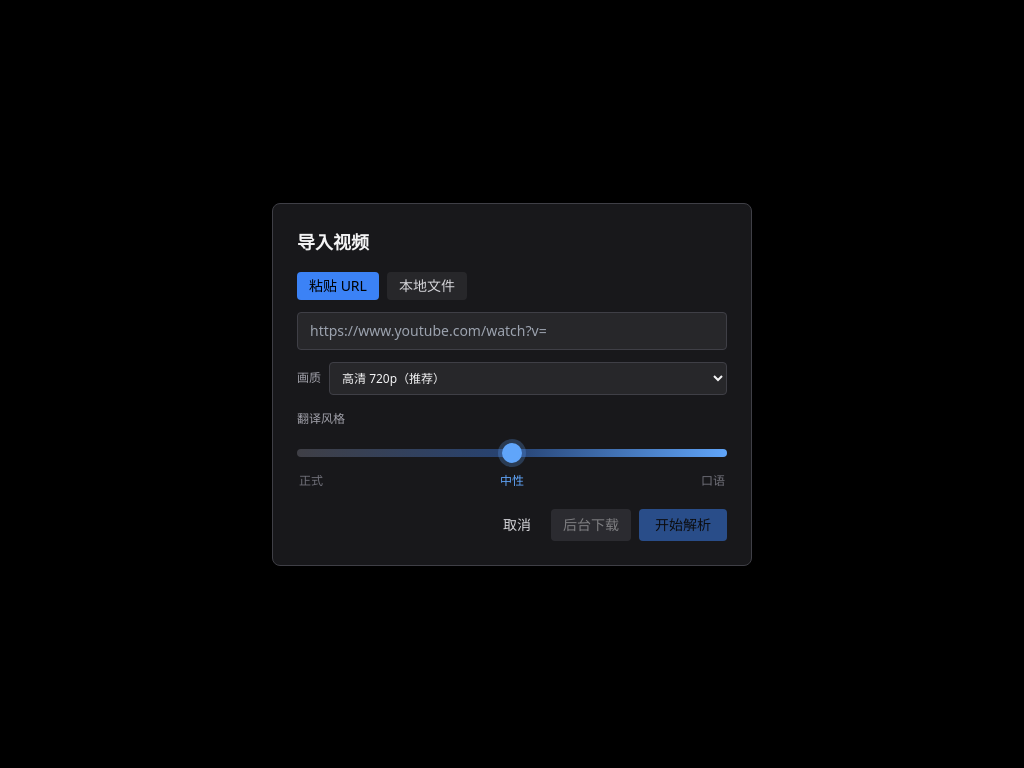
ImportModal — existing video confirmation › does not offer overwrite while the same video is running
In the field with placeholder "https://www.youtube.com/watch?v=": x=512, y=330 [297,312,727,350], type "https://www.youtube.com/watch?v=jNQXAC9IVRw"
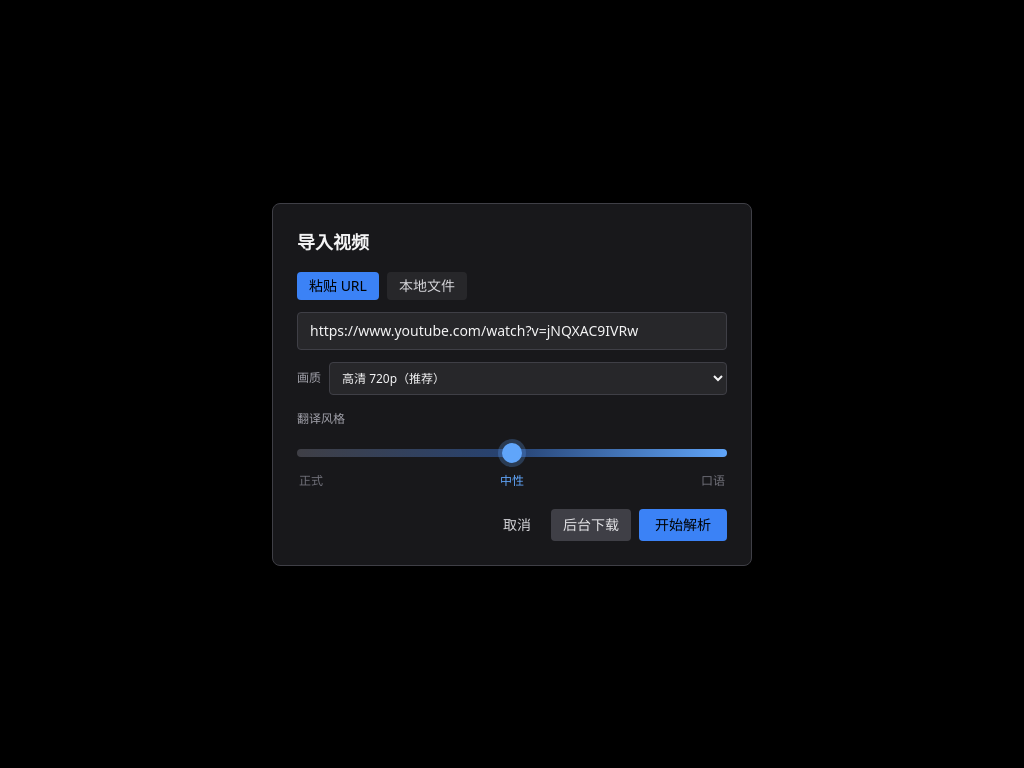
Click the button "开始解析": x=683, y=524 [639,508,727,540]
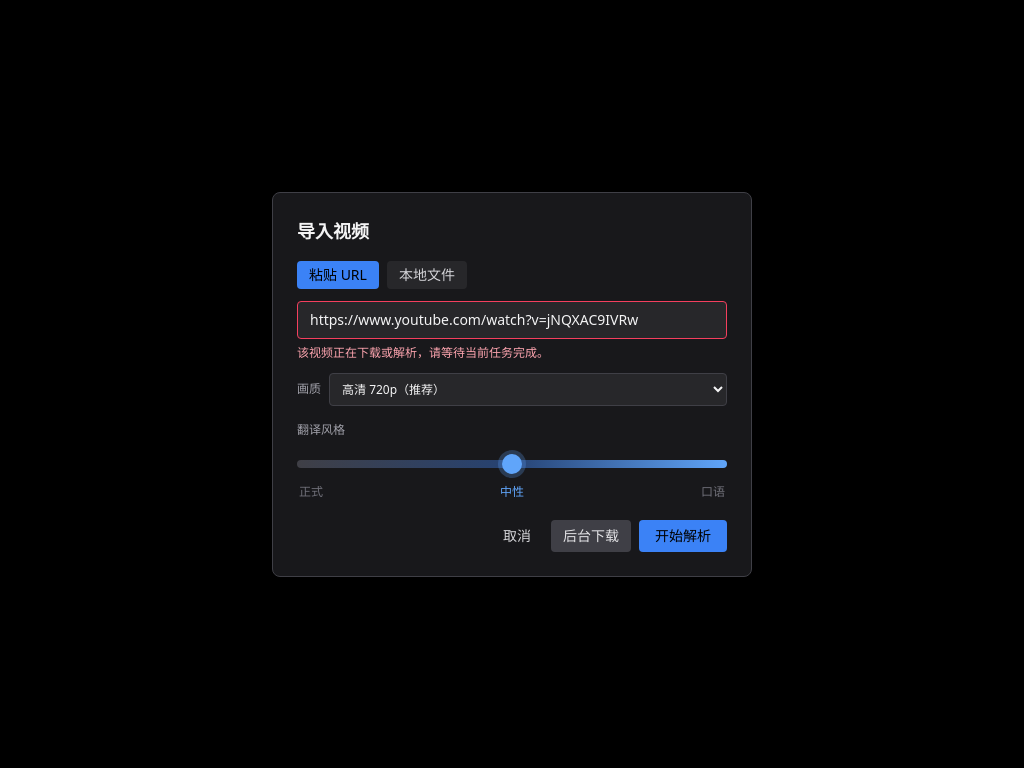
Now the text "该视频正在下载或解析，请等待当前任务完成。" is shown, box [297,344,549,360]
